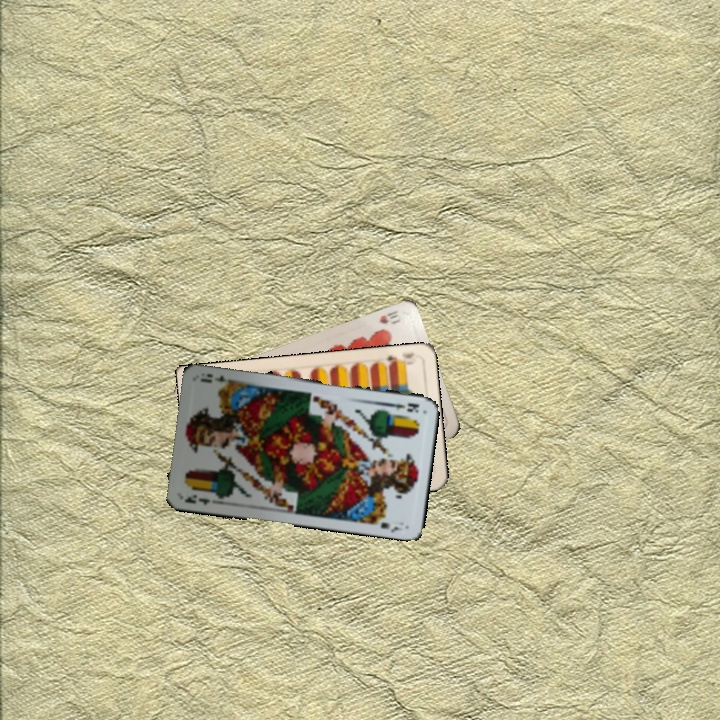E10: (382, 348, 419, 369)
EK: (382, 398, 422, 415), (180, 490, 212, 507)
H10: (375, 306, 403, 327)
